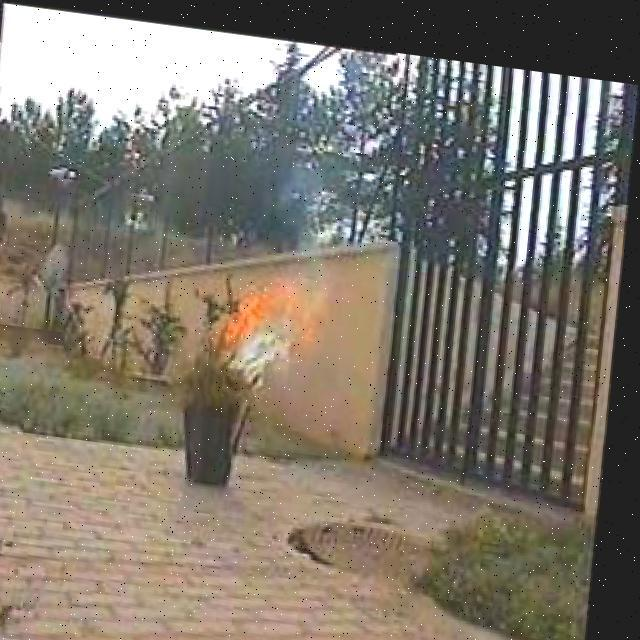Fire: (169, 223, 347, 422)
